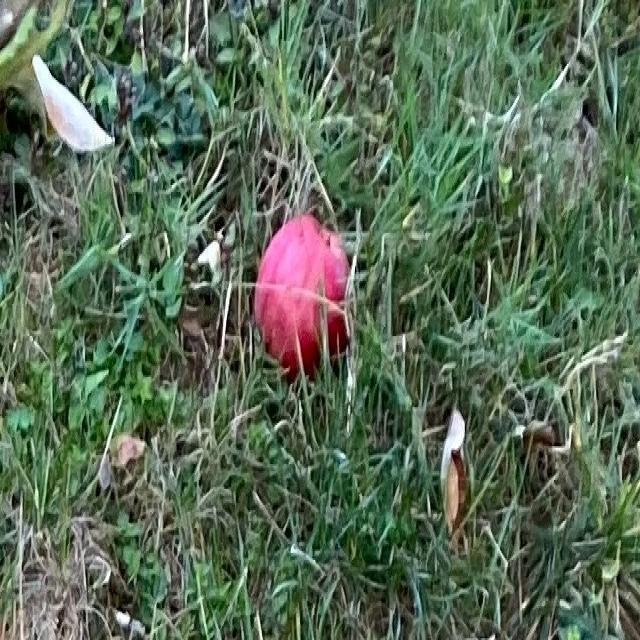100-_ripeness: (256, 215, 349, 375)
